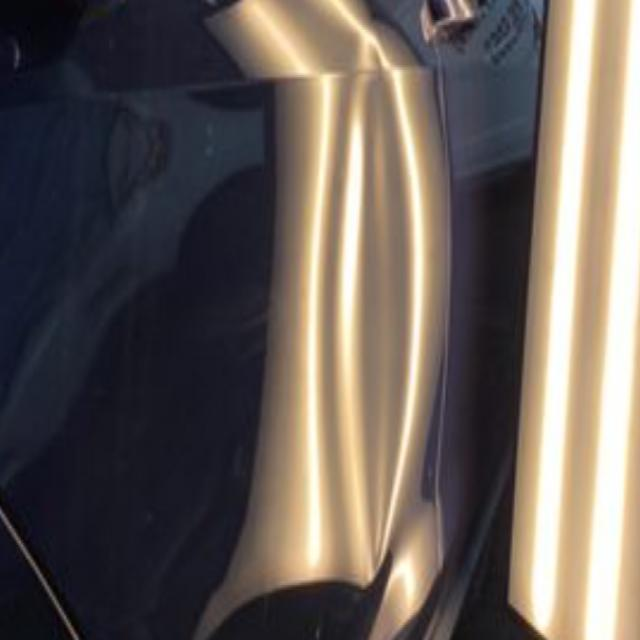dents: (273, 24, 435, 592)
